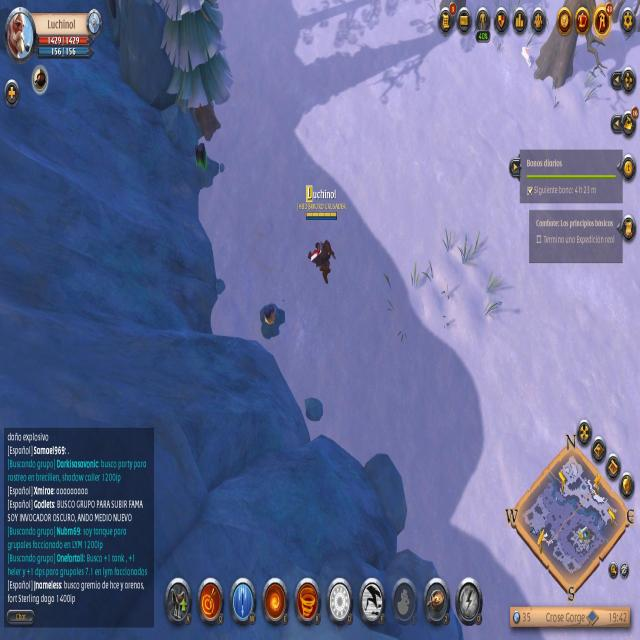piedra_cobre: (260, 304, 284, 340)
